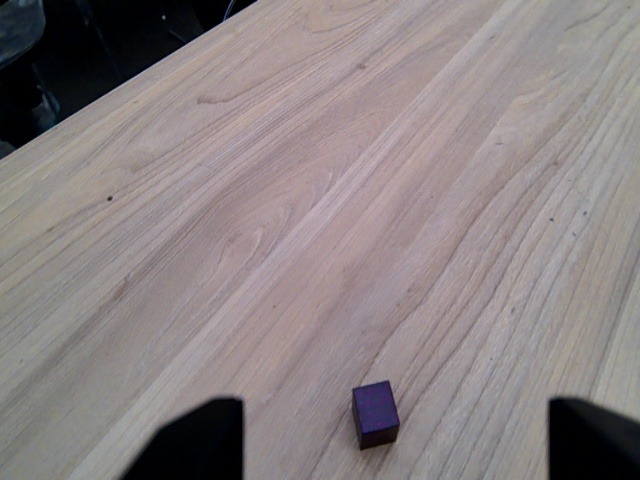brick: (343, 379, 404, 451)
